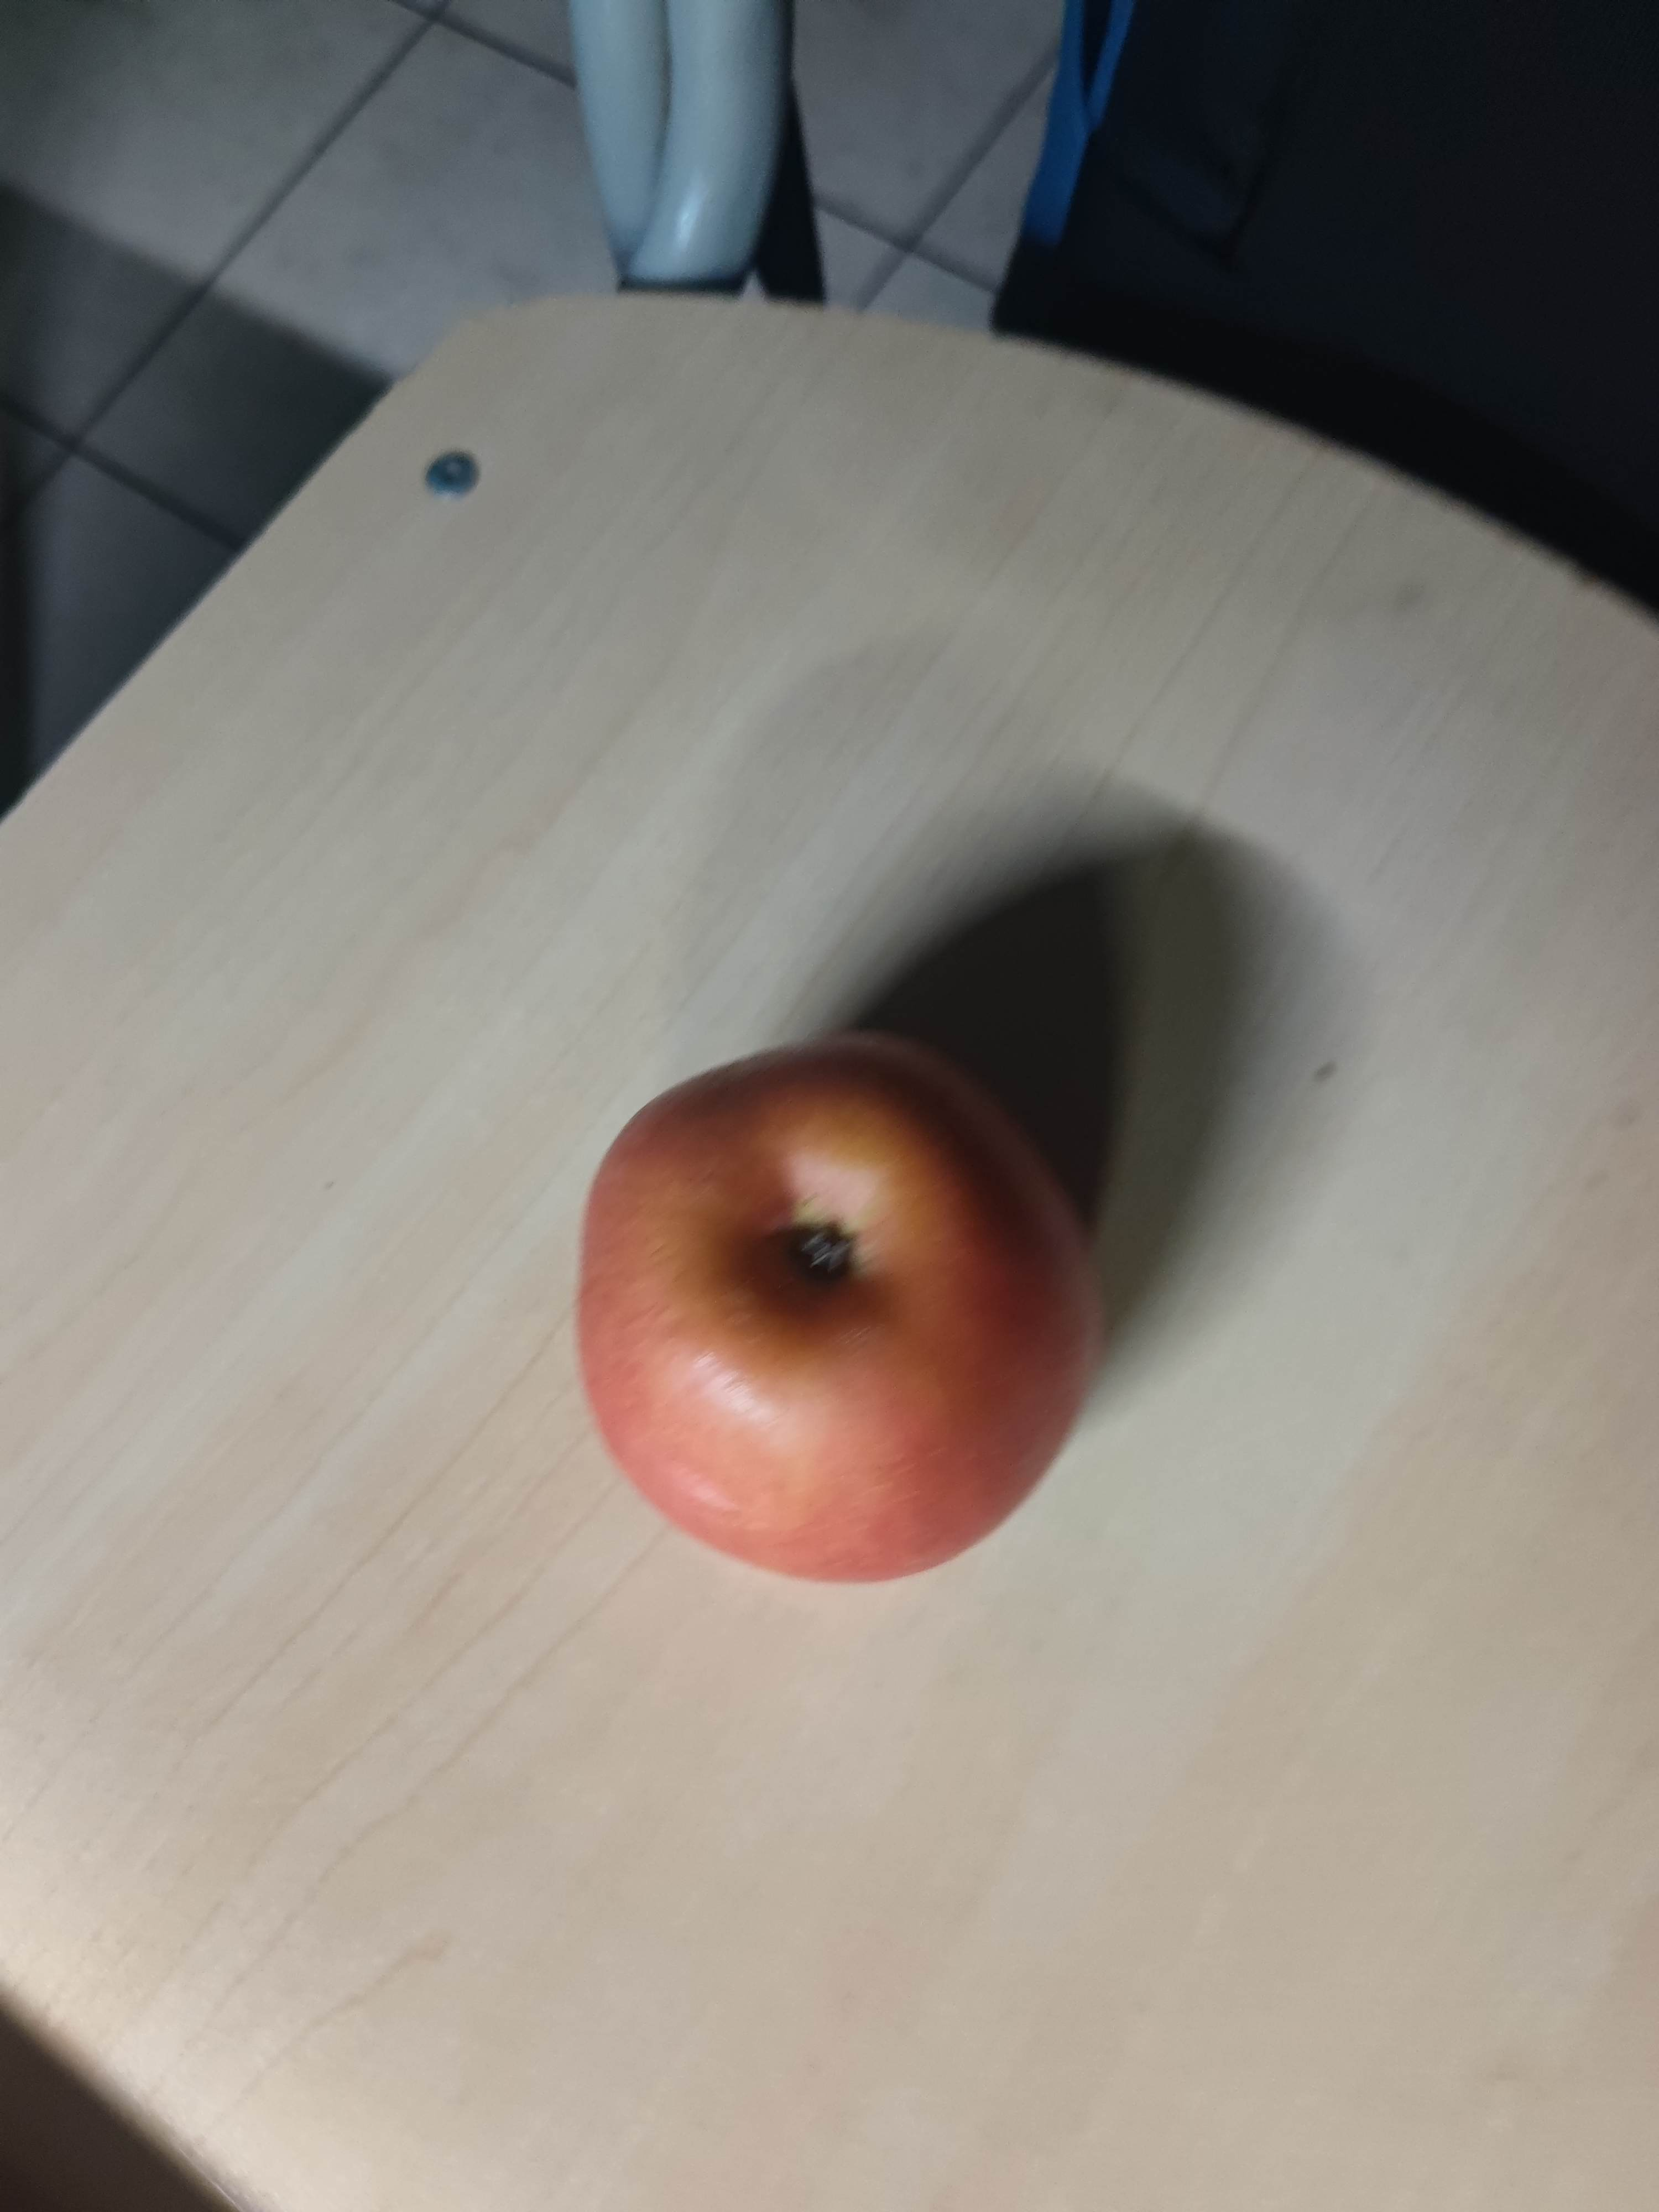apple: (586, 1019, 1110, 1588)
